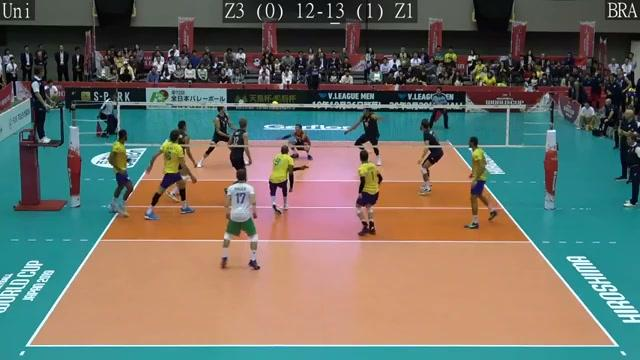ball: (271, 99, 279, 111)
